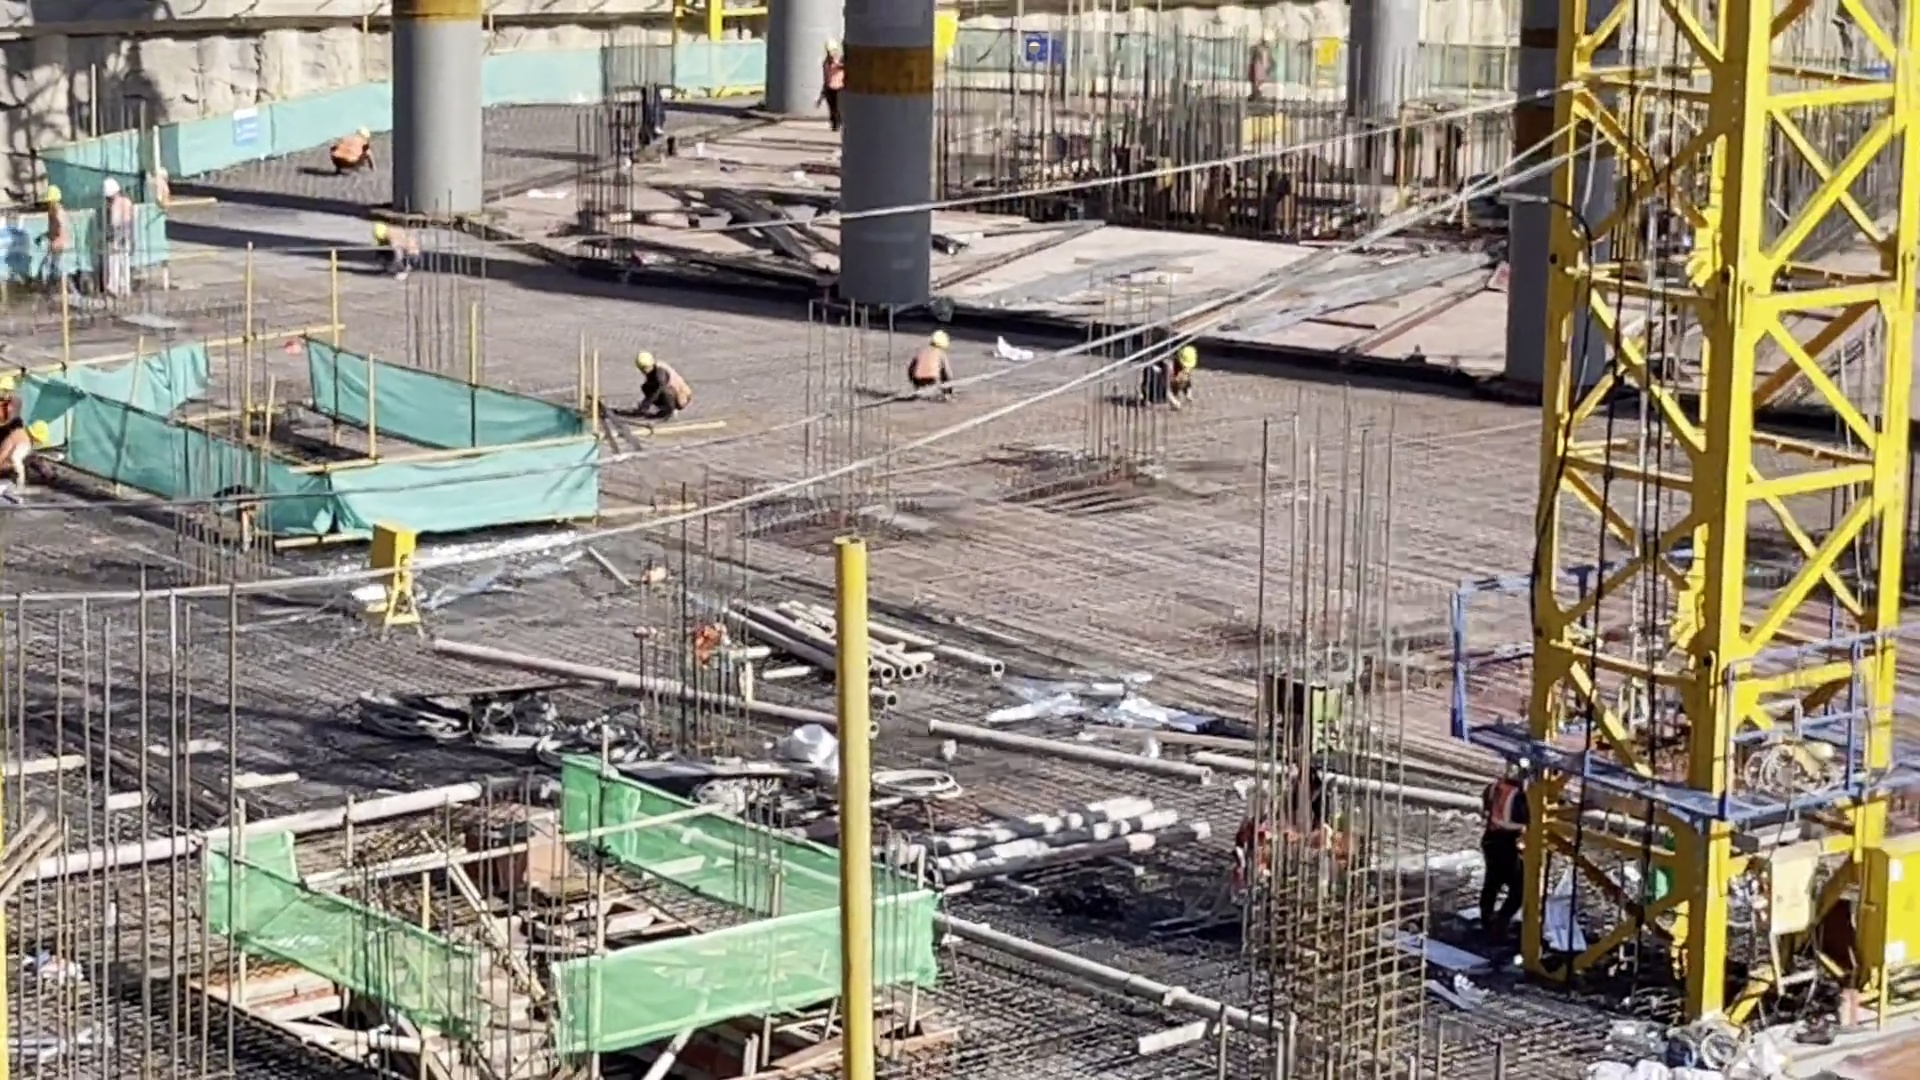ebox: (1858, 835, 1920, 969), (371, 522, 409, 608)
helmet: (27, 420, 51, 444), (1179, 346, 1196, 368), (101, 178, 121, 196), (930, 328, 948, 347), (43, 185, 62, 201), (637, 351, 653, 367)
person: (1475, 758, 1527, 946), (98, 175, 136, 301), (635, 354, 696, 419), (1, 417, 55, 490), (38, 183, 70, 303), (1141, 347, 1195, 410), (369, 224, 419, 281), (913, 334, 954, 399), (324, 126, 375, 178), (820, 43, 846, 124)
slogan: (232, 106, 256, 146)
vest: (1478, 772, 1519, 831), (655, 361, 683, 410), (1, 424, 25, 473), (333, 139, 367, 166), (913, 350, 938, 384)
